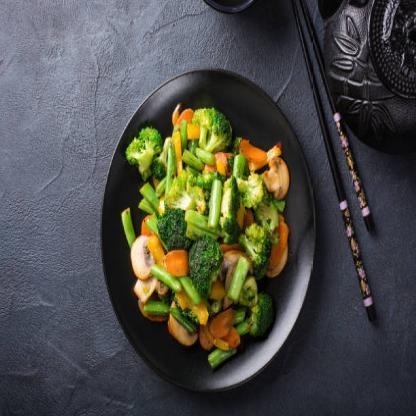broccoli: (122, 107, 290, 367)
